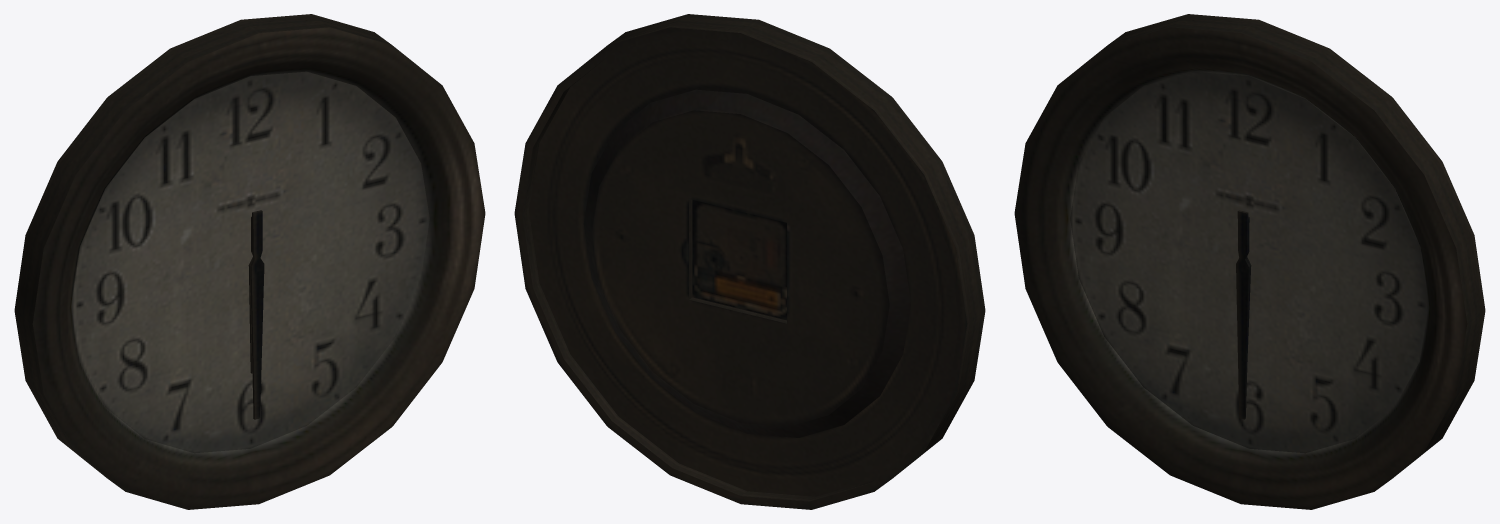
Rendered from clock_1.obj.
3 views of the same model, side by side, from view 1: azimuth 30°, elevation 25°; view 2: azimuth 150°, elevation 25°; view 3: azimuth 330°, elevation 25° (orthographic).
Visible parts, largest first — view 1: clock_1, clock_1_arm_minutes; view 2: clock_1; view 3: clock_1, clock_1_arm_minutes.
Boxes of the visible parts, x1=… form: clock_1: x1=14, y1=14, x2=485, y2=509; clock_1_arm_minutes: x1=250, y1=210, x2=264, y2=419; clock_1: x1=514, y1=14, x2=985, y2=509; clock_1: x1=1014, y1=14, x2=1485, y2=509; clock_1_arm_minutes: x1=1236, y1=210, x2=1249, y2=419.
Bounding box in the file's own units: 0.4023 × 0.4 × 0.03.
